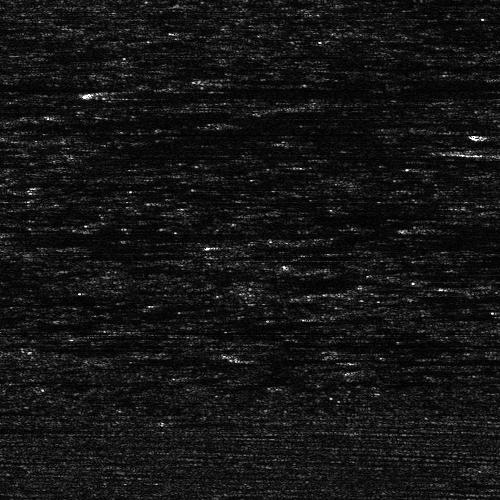rock: (416, 141, 499, 158), (345, 291, 450, 302), (69, 85, 162, 96), (155, 241, 260, 250), (329, 367, 412, 372), (214, 76, 277, 81), (350, 358, 391, 363), (0, 179, 50, 182)
shadow: (116, 85, 373, 96), (208, 241, 464, 250), (0, 232, 472, 235), (398, 291, 500, 302), (458, 141, 500, 158), (371, 367, 500, 372), (0, 426, 101, 431), (246, 76, 332, 81), (371, 358, 457, 363), (19, 179, 102, 182), (490, 132, 500, 135)
